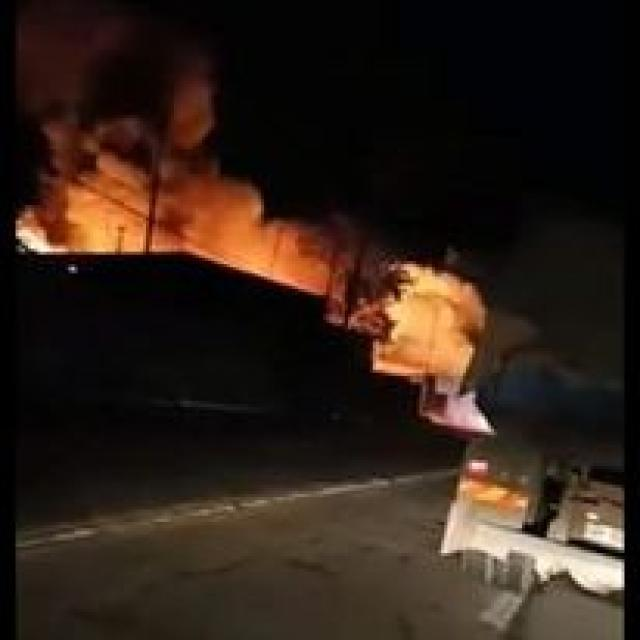Fire: (358, 272, 452, 384)
Smoke: (16, 0, 238, 179)
